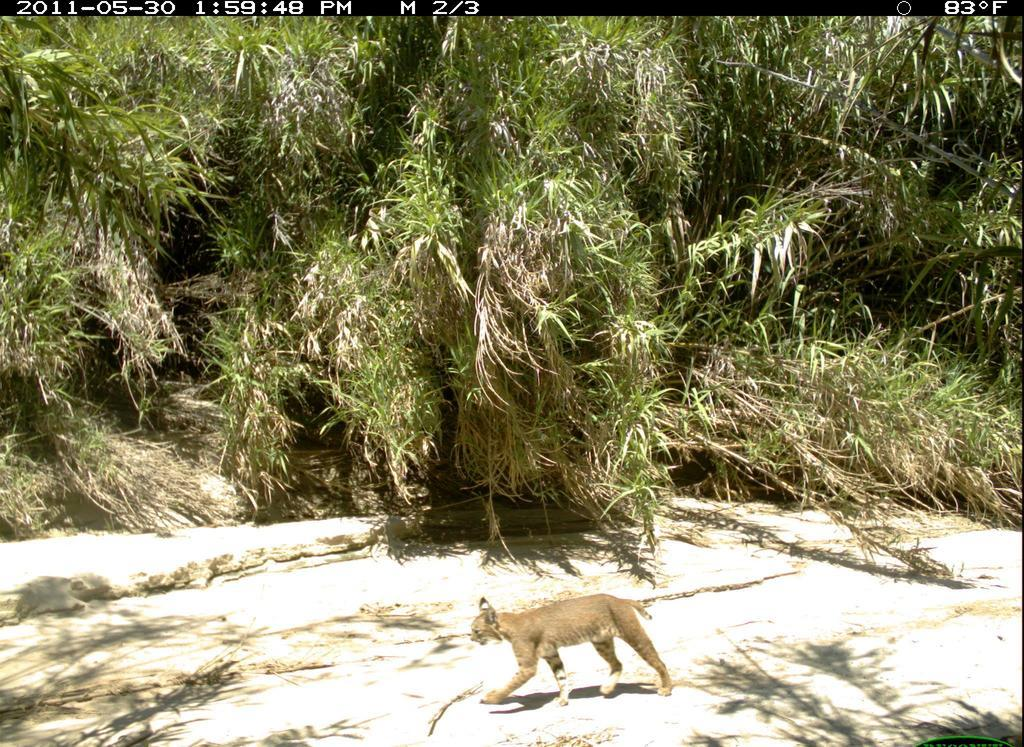bobcat: (459, 592, 683, 716)
